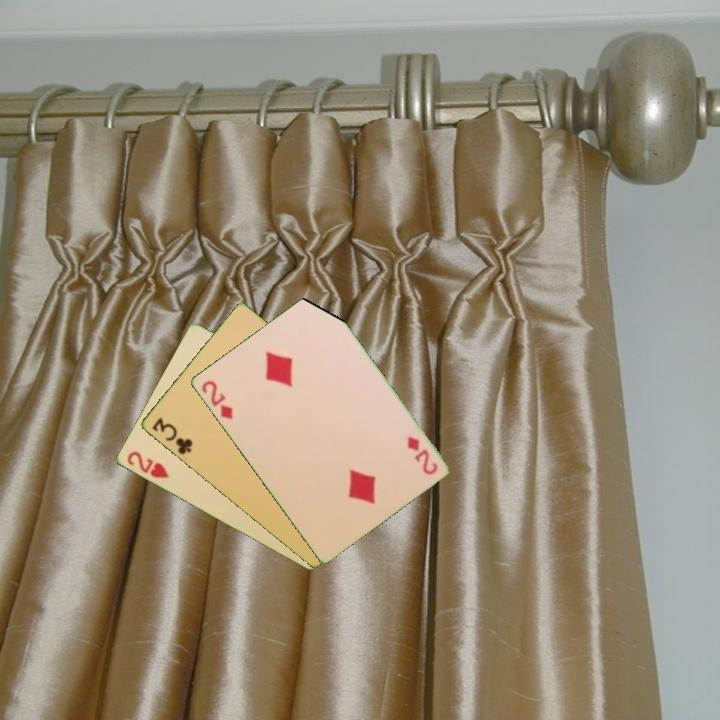2d: (198, 377, 235, 422), (403, 433, 440, 478)
2h: (123, 448, 172, 481)
3c: (148, 414, 195, 457)
